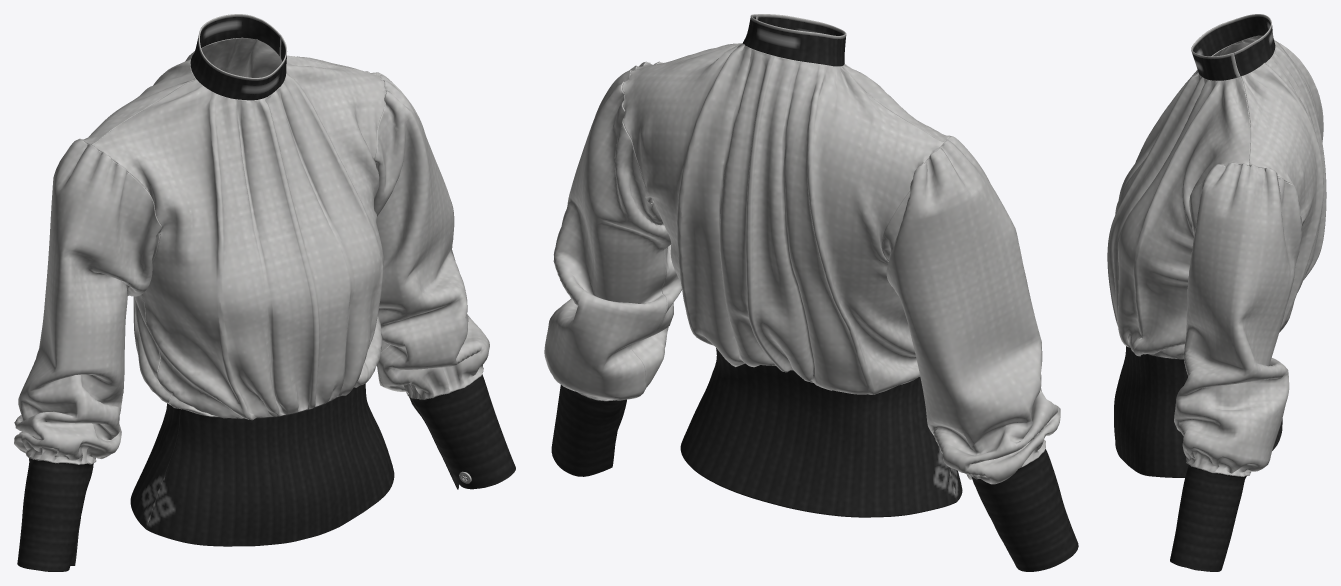
The picture shows the model from 3 angles, left to right: view 1: azimuth 30°, elevation 25°; view 2: azimuth 150°, elevation 25°; view 3: azimuth 270°, elevation 25°; orthographic projection. The views are drawn at different scales.
Parts seen in each view (by area): view 1: FO_001; view 2: FO_001; view 3: FO_001.
Boxes of the visible parts, <box> form: FO_001: <box>14,14,515,571</box>; FO_001: <box>544,14,1078,571</box>; FO_001: <box>1107,14,1326,571</box>.
Size of the model in its own units: 18.96 by 18.33 by 8.08.
1 material, 1 textured.
